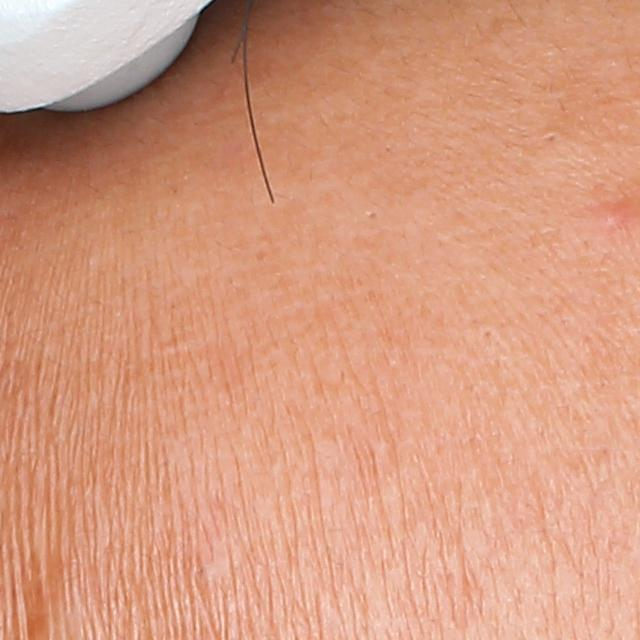comedo: (191, 549, 221, 585), (477, 325, 498, 340), (543, 133, 557, 146), (366, 209, 378, 222)
papule: (591, 196, 626, 237)
